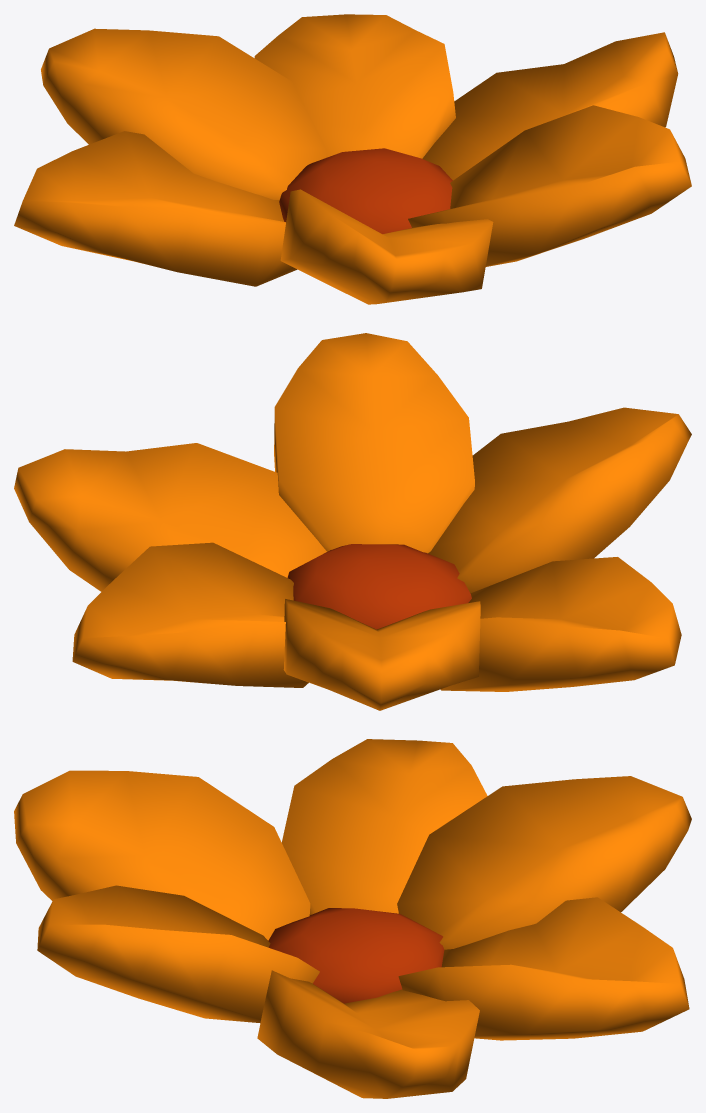
File: CS_YellowFlower.fbx
The picture shows the model from 3 angles, top to bottom: view 1: azimuth 30°, elevation 25°; view 2: azimuth 150°, elevation 25°; view 3: azimuth 270°, elevation 25°; orthographic projection. The views are drawn at different scales.
Parts seen in each view (by area): view 1: YellowFlower; view 2: YellowFlower; view 3: YellowFlower.
Part boxes in pixels (x1,y1,x2,y2): YellowFlower: (14, 14, 691, 304); YellowFlower: (14, 333, 691, 710); YellowFlower: (14, 739, 691, 1098).
Size of the model in its own units: 50.33 by 12.92 by 43.73.
